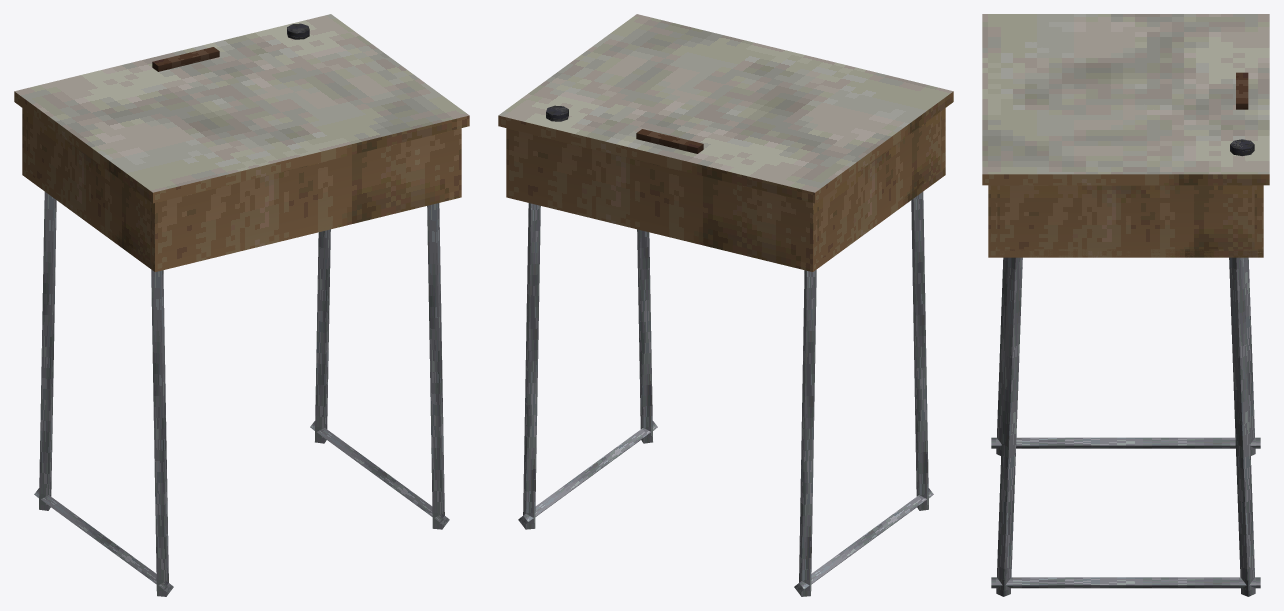
Rendered from student_desk.glb.
3 renders of one model, left to right at view 1: azimuth 30°, elevation 25°; view 2: azimuth 150°, elevation 25°; view 3: azimuth 270°, elevation 25°, orthographic. The views are drawn at different scales.
Visible parts, largest first — view 1: student_desk, student_desk_lid; view 2: student_desk, student_desk_lid; view 3: student_desk_lid, student_desk.
Boxes of the visible parts, <box> form: student_desk: <box>22,108,461,596</box>; student_desk_lid: <box>14,14,469,203</box>; student_desk: <box>506,108,945,596</box>; student_desk_lid: <box>498,14,953,203</box>; student_desk_lid: <box>982,14,1269,185</box>; student_desk: <box>988,185,1263,596</box>.
Size of the model in its own units: 0.62 by 0.7874 by 0.47.
